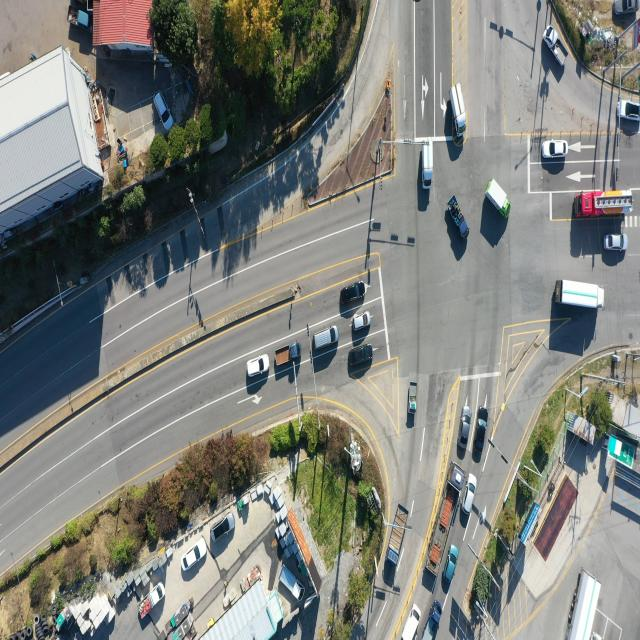car: (474, 406, 489, 461), (155, 91, 175, 132), (183, 536, 206, 570), (400, 602, 420, 640), (312, 325, 338, 351), (462, 474, 477, 516), (348, 344, 374, 368), (212, 513, 234, 541), (341, 281, 367, 304), (247, 353, 270, 377), (445, 544, 459, 582), (459, 407, 471, 451), (543, 139, 569, 159), (619, 98, 640, 121), (615, 0, 639, 17), (352, 311, 371, 332), (606, 234, 628, 252)
medium_truck: (424, 464, 466, 574), (566, 568, 601, 638), (381, 508, 408, 567), (578, 192, 635, 218), (556, 279, 604, 309)
small_truck: (136, 582, 164, 626), (546, 26, 568, 70), (279, 566, 305, 602), (423, 595, 443, 640), (486, 178, 509, 217), (448, 194, 468, 238), (450, 84, 470, 128), (274, 342, 301, 368), (421, 143, 434, 191), (67, 6, 90, 27), (407, 383, 418, 418)
